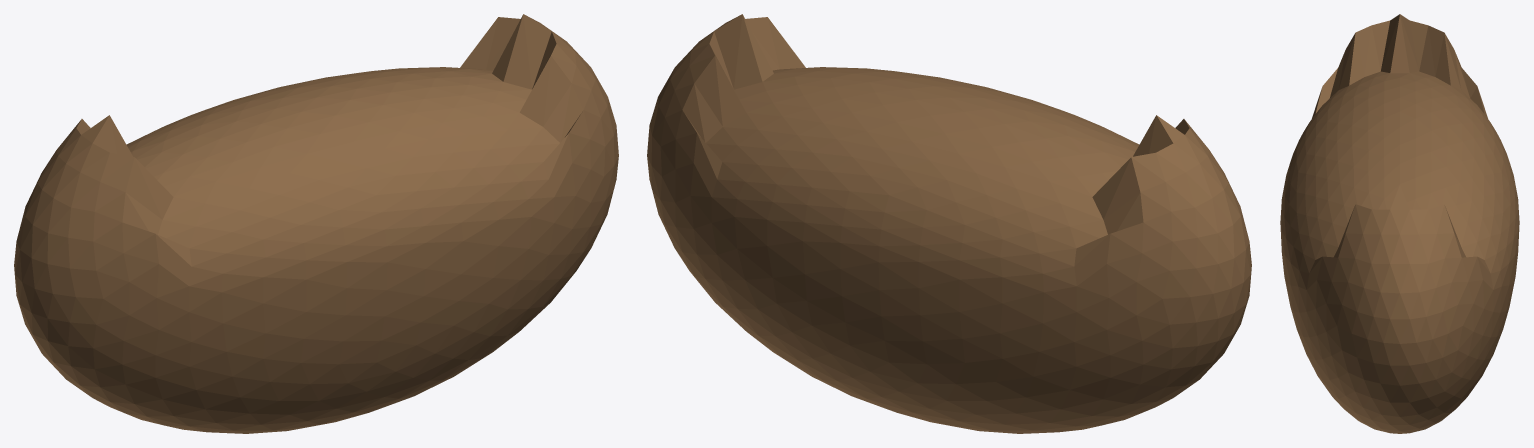
3 renders of one model, left to right at view 1: azimuth 30°, elevation 25°; view 2: azimuth 150°, elevation 25°; view 3: azimuth 270°, elevation 25°, orthographic. The views are drawn at different scales.
Visible parts, largest first — view 1: world; view 2: world; view 3: world.
Boxes of the visible parts, x1,y1,x2,y2 form: world: (14, 14, 618, 433); world: (647, 14, 1251, 433); world: (1280, 14, 1519, 433).
Size of the model in its own units: 0.012 by 0.00685 by 0.005.
